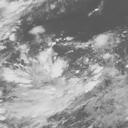cyclone: (2, 41, 124, 127)
